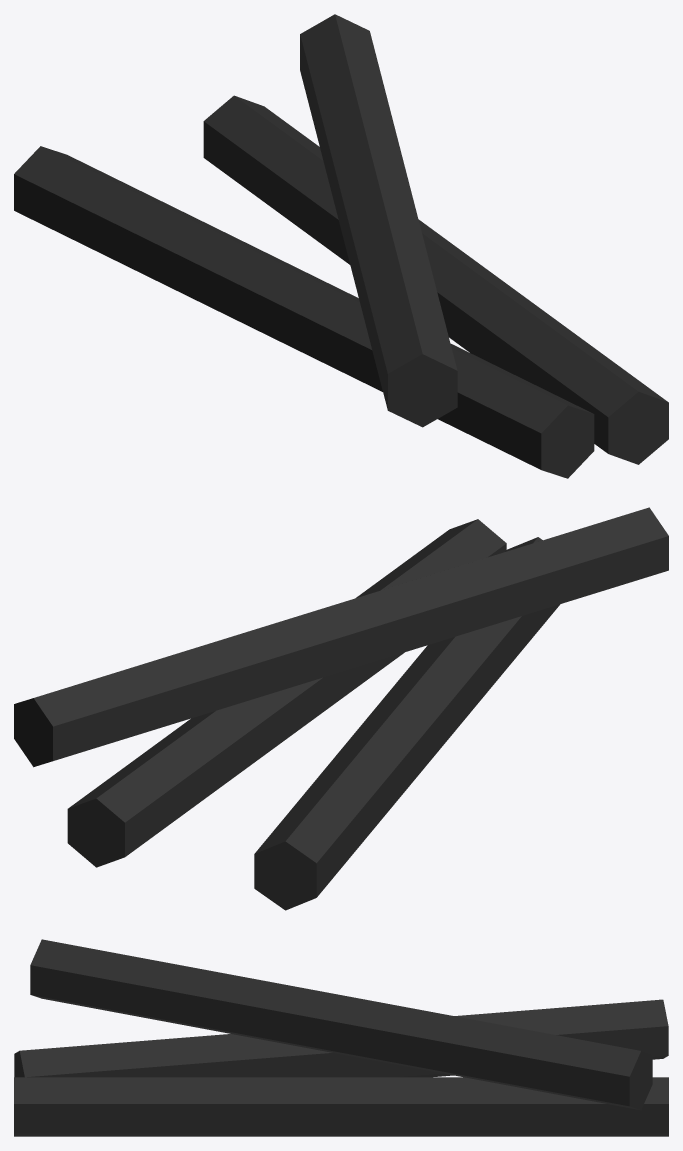
File: Carbon_Steel_Rods_0.fbx
3 views of the same model, one above another, from view 1: azimuth 30°, elevation 25°; view 2: azimuth 150°, elevation 25°; view 3: azimuth 270°, elevation 25° (orthographic). The views are drawn at different scales.
Visible parts, largest first — view 1: Carbon_Steel_Rods; view 2: Carbon_Steel_Rods; view 3: Carbon_Steel_Rods.
Part boxes in pixels (bbox=[...]): Carbon_Steel_Rods: bbox=[14, 14, 668, 478]; Carbon_Steel_Rods: bbox=[14, 507, 668, 910]; Carbon_Steel_Rods: bbox=[14, 939, 668, 1136].
Size of the model in its own units: 48.28 by 20.01 by 100.
